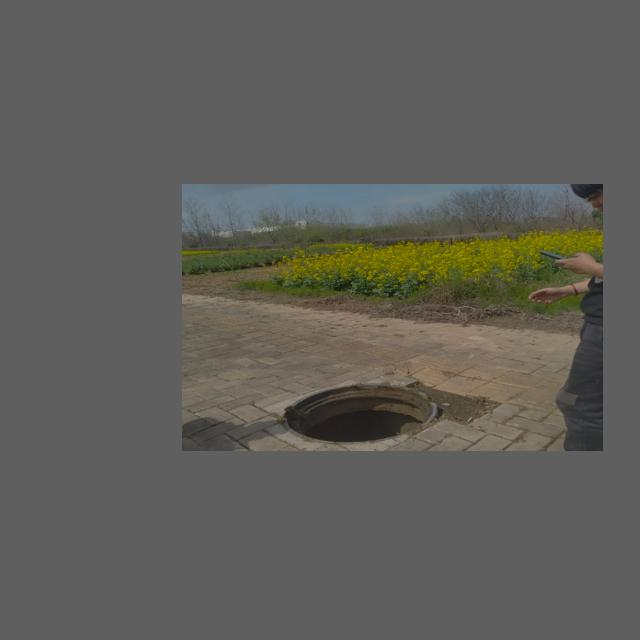lose: (283, 384, 439, 442)
